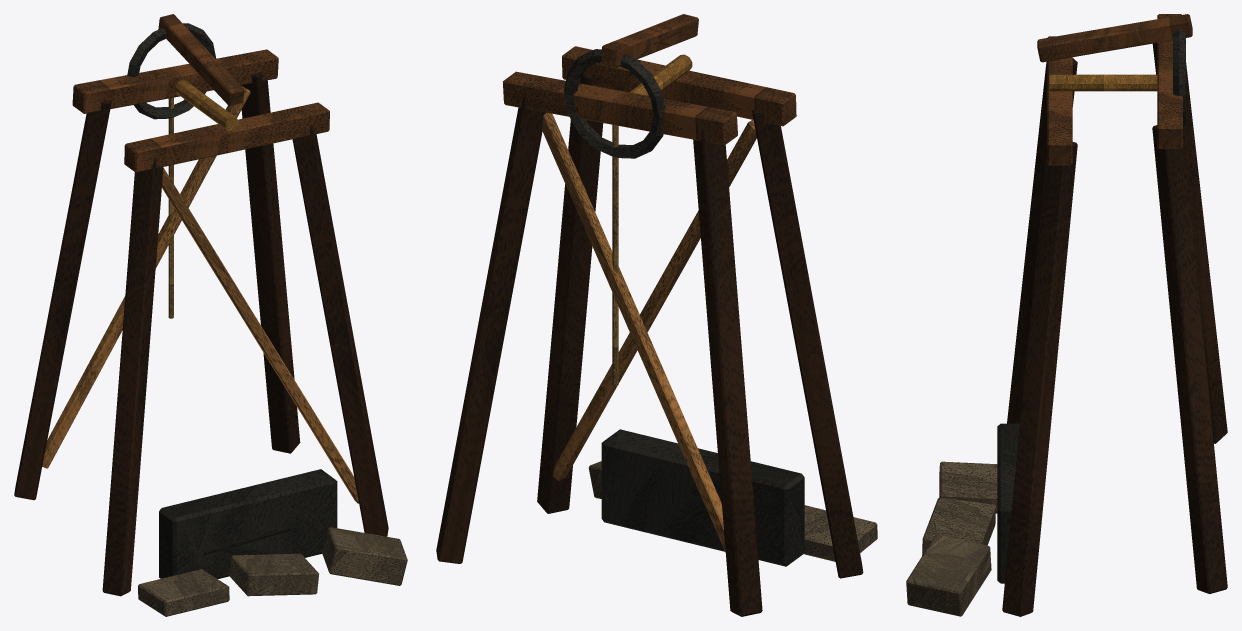
File: active_headframe.glb
3 renders of one model, left to right at view 1: azimuth 30°, elevation 25°; view 2: azimuth 150°, elevation 25°; view 3: azimuth 270°, elevation 25°, orthographic. The views are drawn at different scales.
Parts seen in each view (by area): view 1: active_headframe; view 2: active_headframe; view 3: active_headframe.
Part boxes in pixels (x1=…): active_headframe: x1=14, y1=14, x2=407, y2=616; active_headframe: x1=436, y1=14, x2=877, y2=616; active_headframe: x1=906, y1=14, x2=1227, y2=616.
Size of the model in its own units: 4.16 by 6.99 by 3.79.
1 material, 1 textured.
